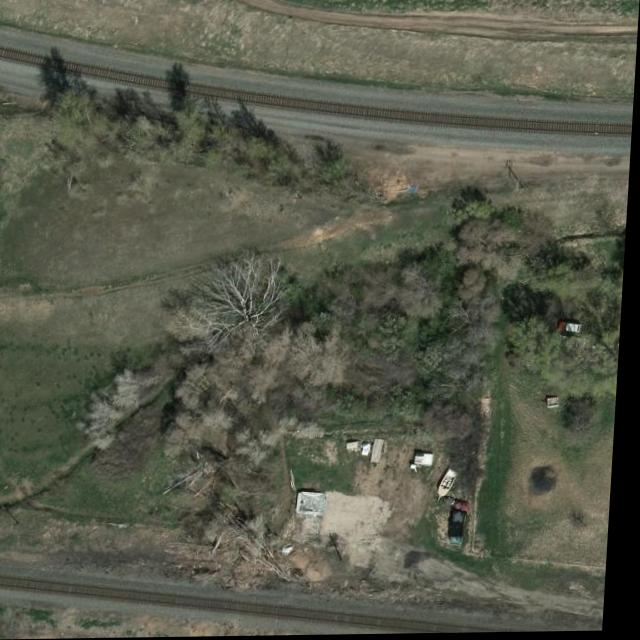vehicle: (458, 511, 473, 546), (448, 499, 480, 515), (562, 323, 587, 335)
